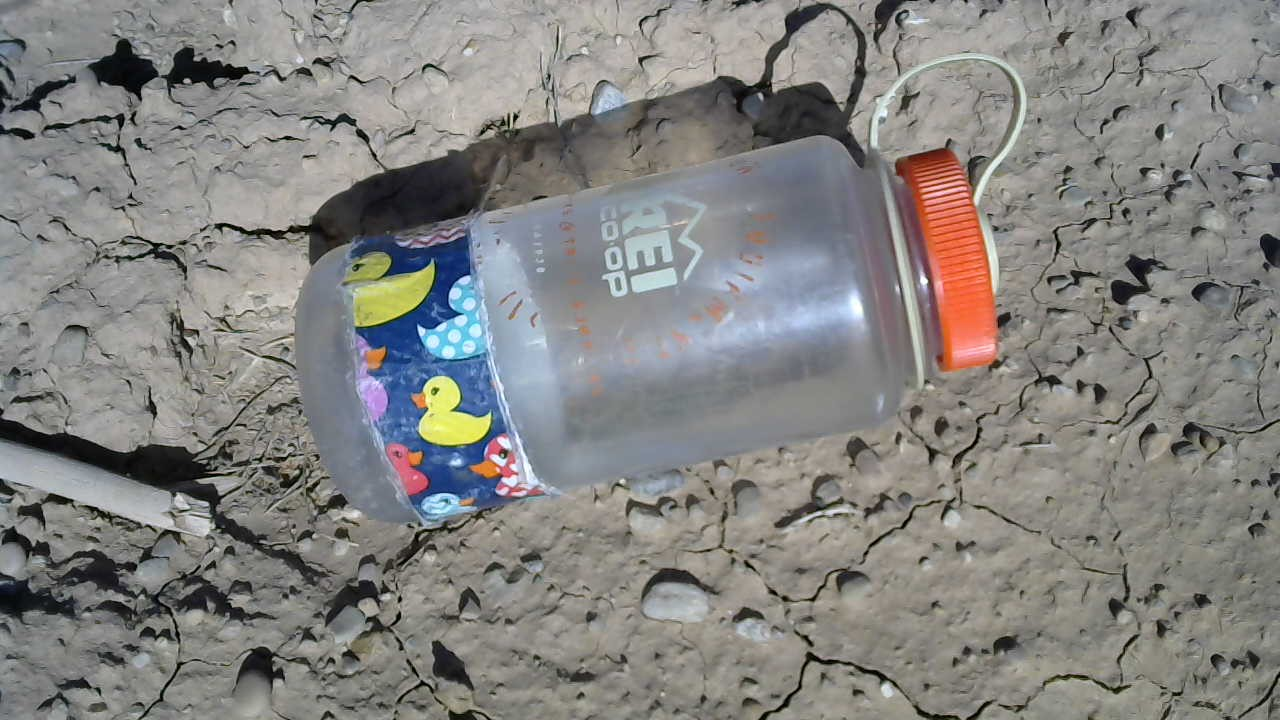bottle: (287, 53, 1033, 530)
